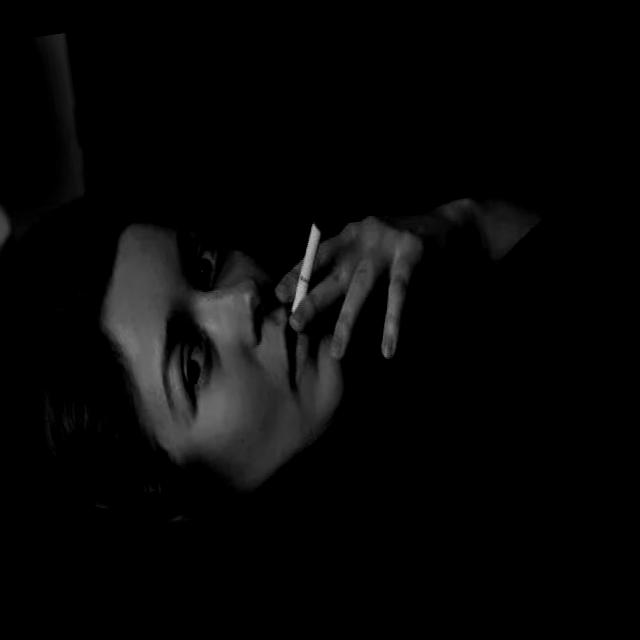cigarette: (273, 210, 338, 332)
